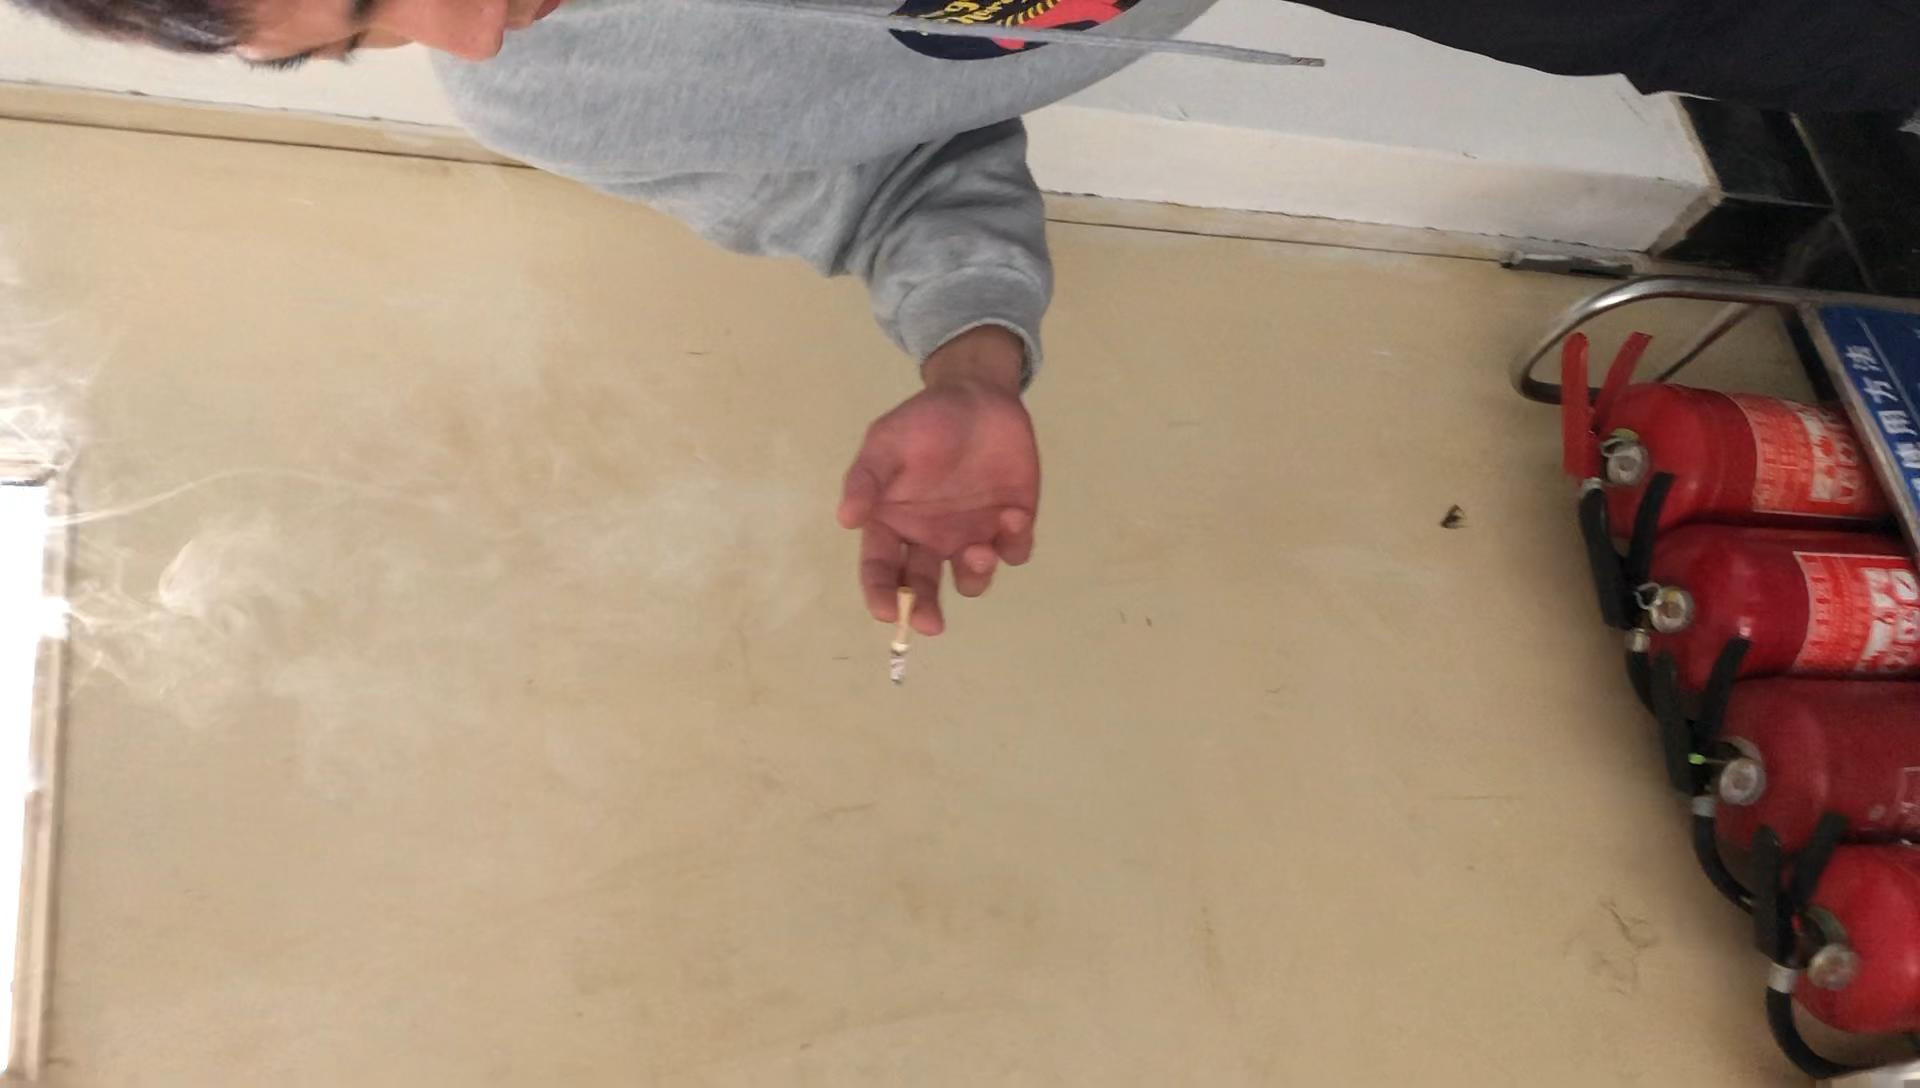yanwu: (88, 446, 281, 704)
